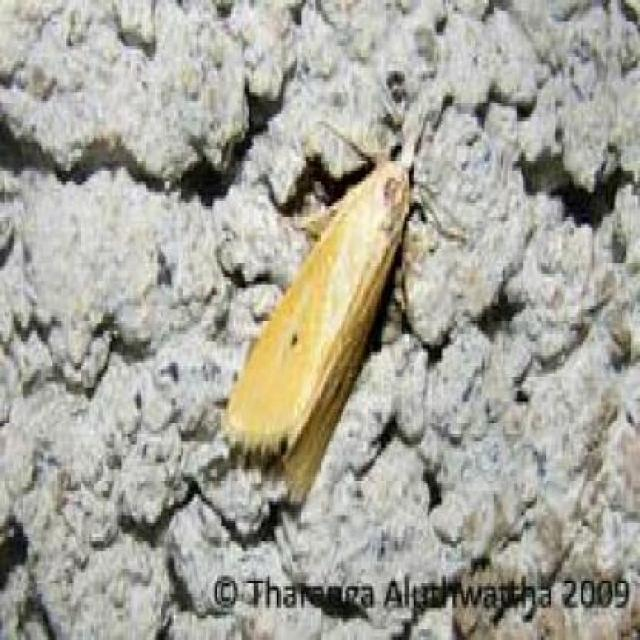stem-borer: (210, 99, 426, 513)
